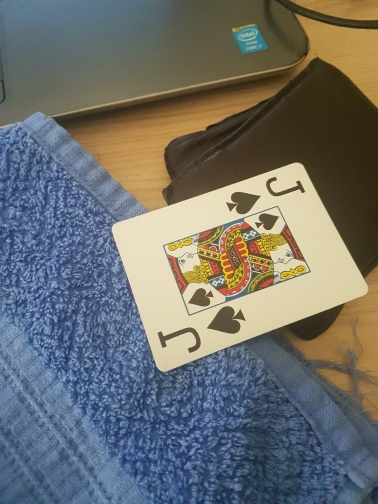jack: (110, 162, 368, 370)
